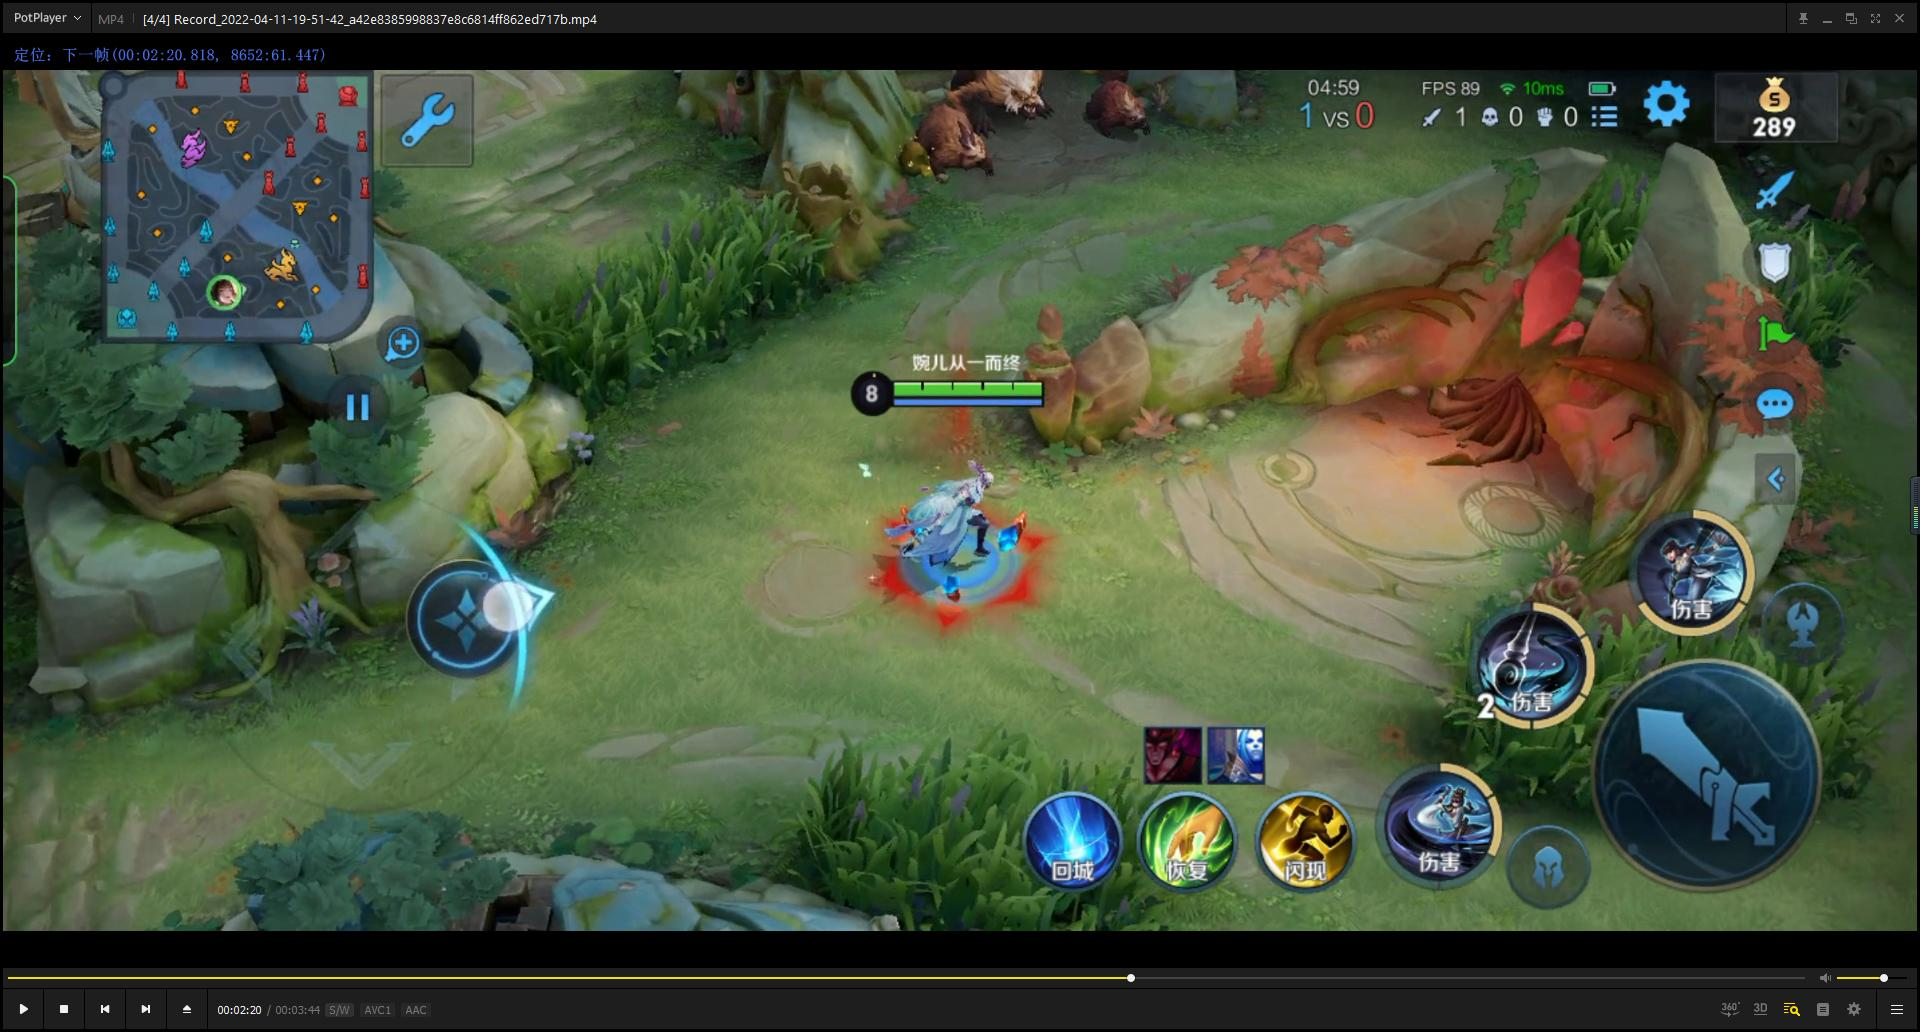Hero: (855, 452, 1064, 646)
Pig: (883, 83, 997, 198), (938, 66, 1062, 133), (1074, 76, 1155, 149)
